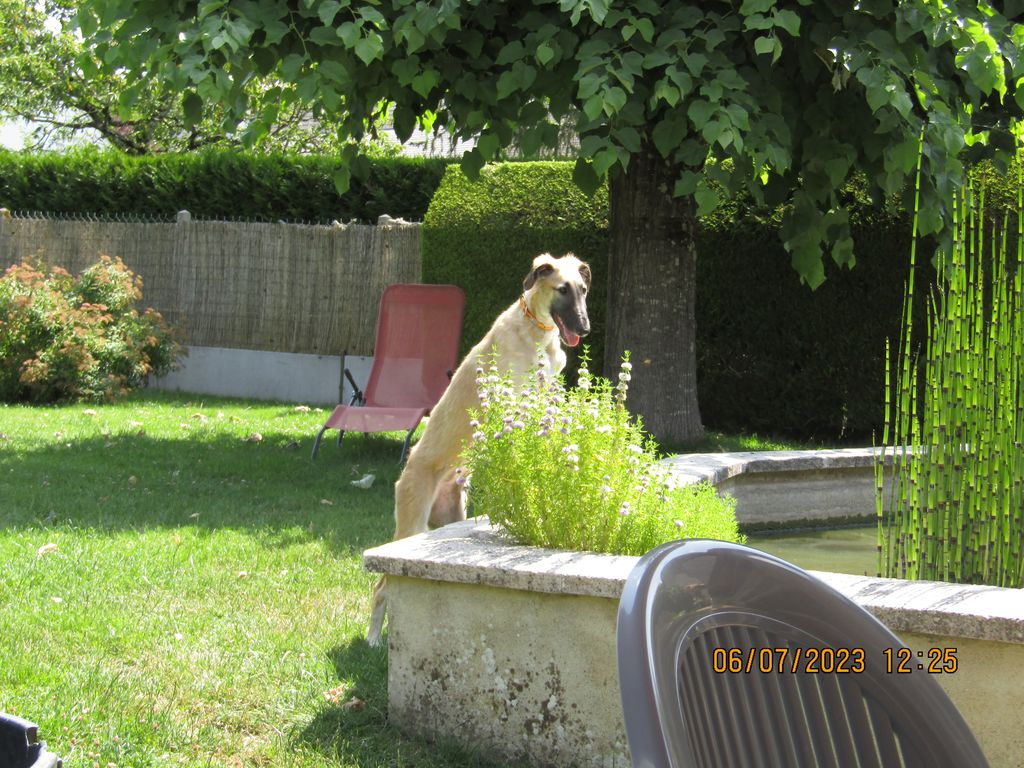borzoi: (393, 242, 624, 538)
